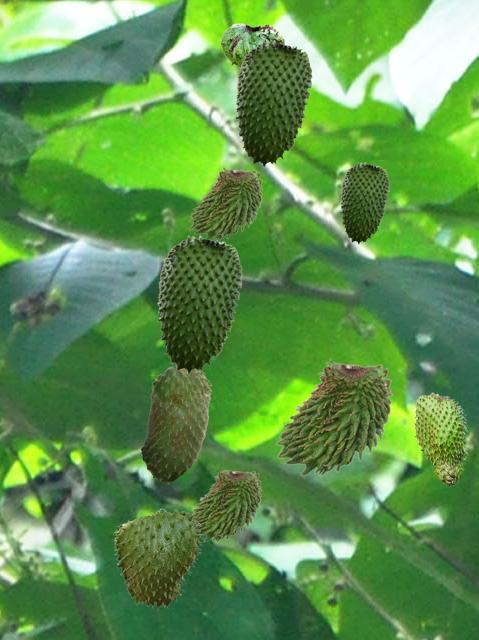guyabano: (275, 358, 392, 475), (157, 235, 241, 373), (235, 40, 311, 166), (114, 508, 203, 609), (140, 364, 211, 483), (188, 166, 262, 240), (191, 467, 261, 541), (413, 392, 468, 486), (340, 162, 388, 243), (220, 23, 285, 68)
